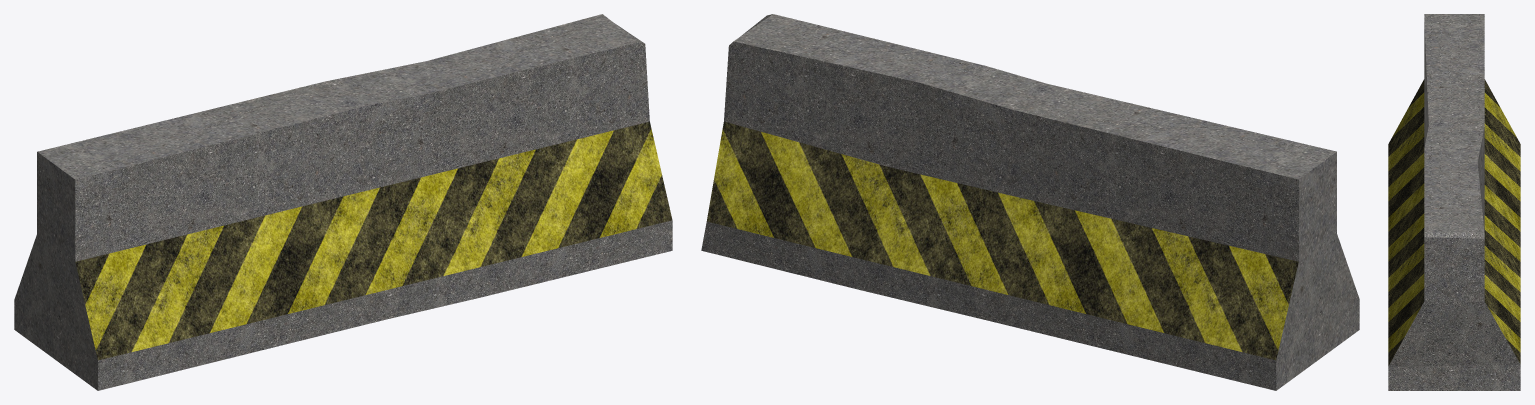
3 renders of one model, left to right at view 1: azimuth 30°, elevation 25°; view 2: azimuth 150°, elevation 25°; view 3: azimuth 270°, elevation 25°, orthographic. The views are drawn at different scales.
Visible parts, largest first — view 1: Cube; view 2: Cube; view 3: Cube.
Part boxes in pixels (bbox=[...]): Cube: bbox=[14, 14, 672, 390]; Cube: bbox=[701, 14, 1359, 390]; Cube: bbox=[1388, 14, 1520, 390].
Size of the model in its own units: 369 by 120 by 92.73.
2 materials, 2 textured.
